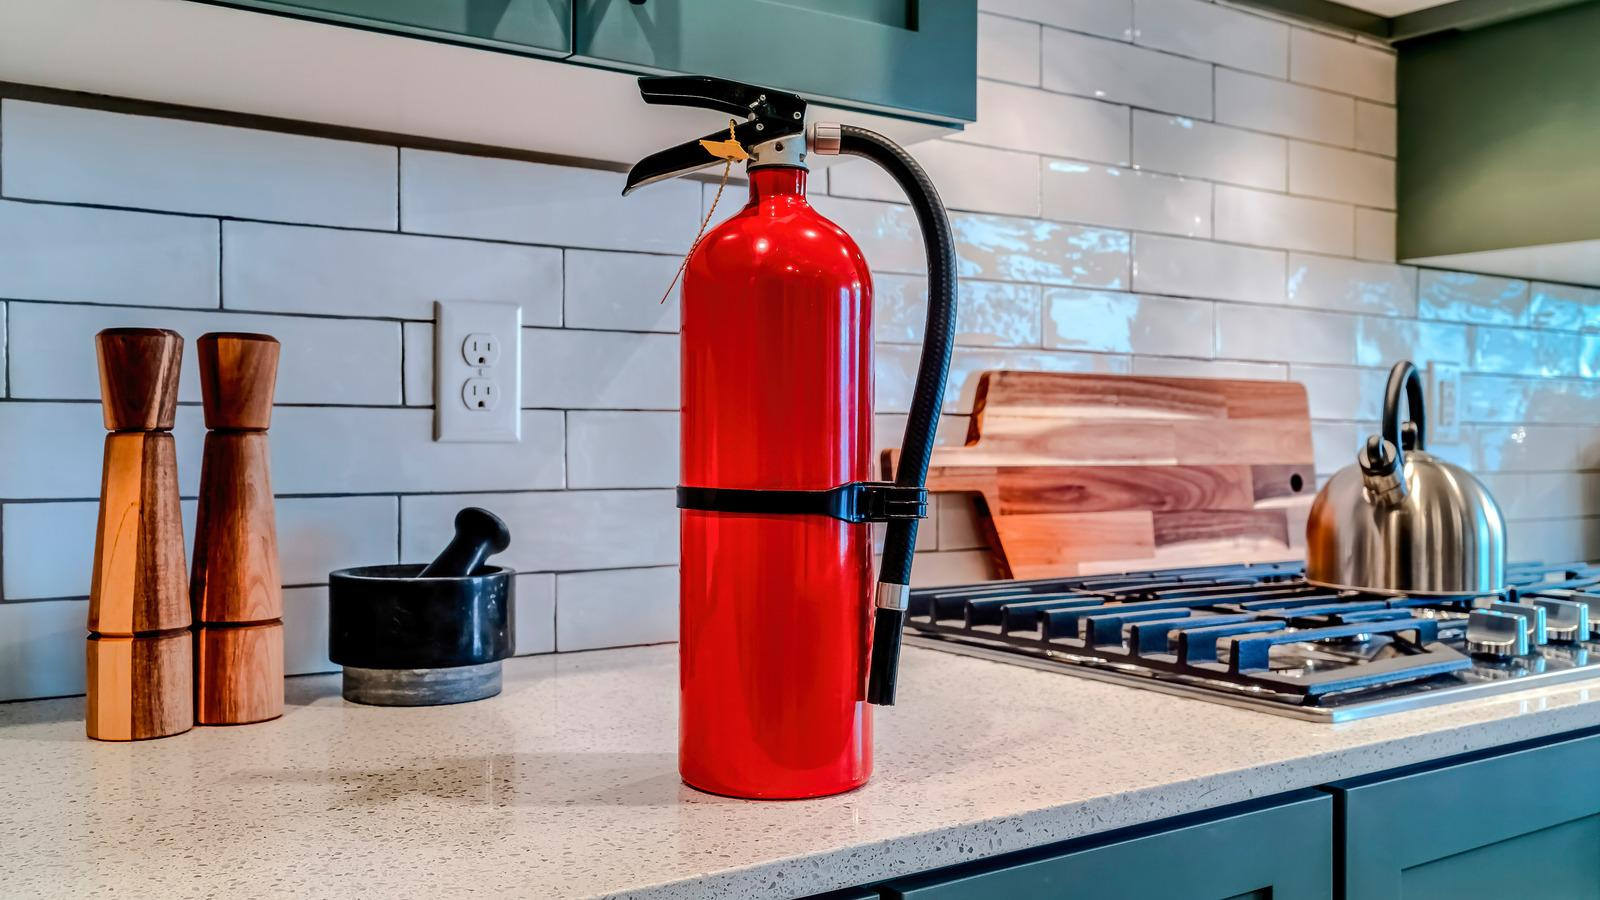floor-kept: (585, 33, 1014, 822)
